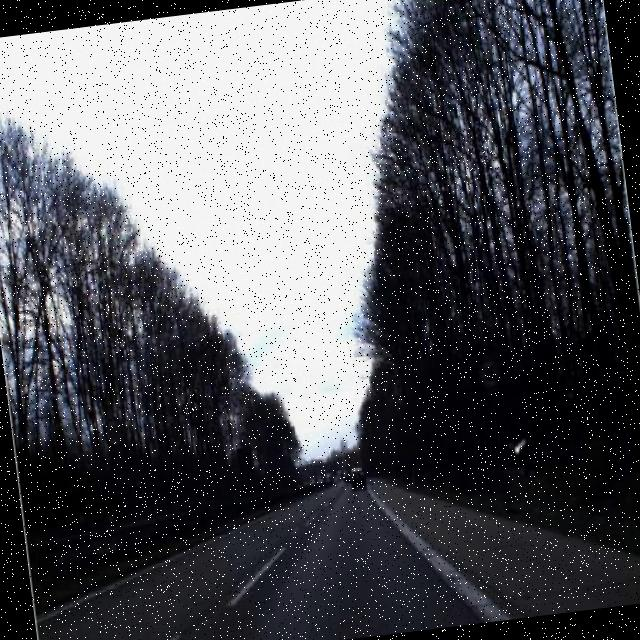Ograniczenie predkosci do 100: (99, 410, 128, 454), (474, 352, 504, 393)
